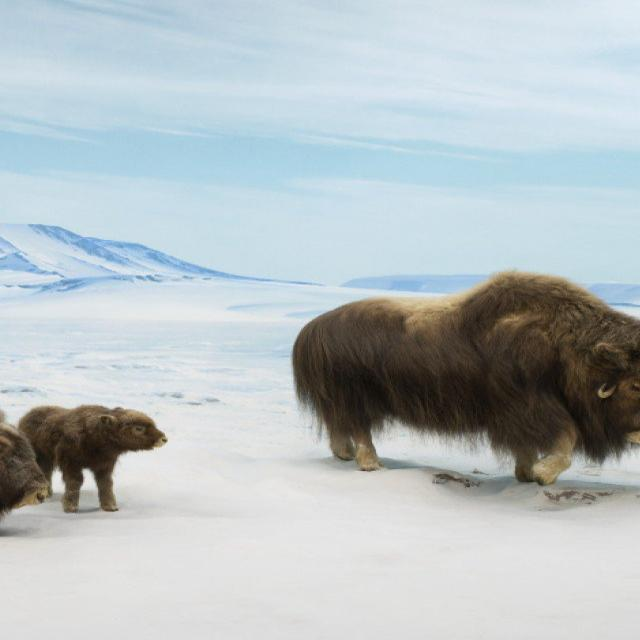Ox: (273, 265, 640, 489), (18, 386, 178, 517)
